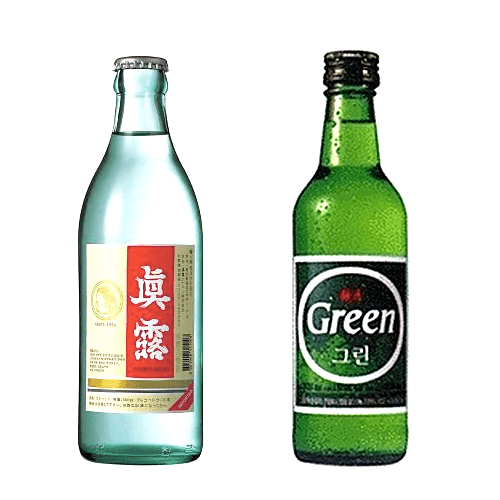soju: (70, 50, 213, 469), (289, 49, 412, 468)
